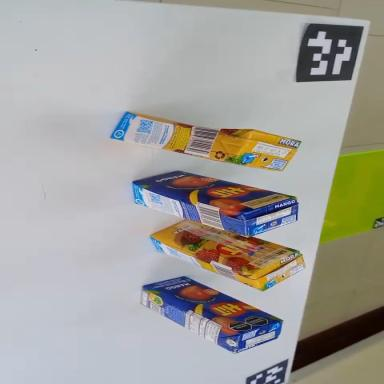HIT-MANGO: (132, 262, 285, 367), (126, 161, 301, 247)
HIT-MORA: (145, 211, 308, 300), (110, 110, 302, 174)
cara_F: (141, 262, 282, 347), (148, 208, 298, 285), (131, 161, 296, 225)
